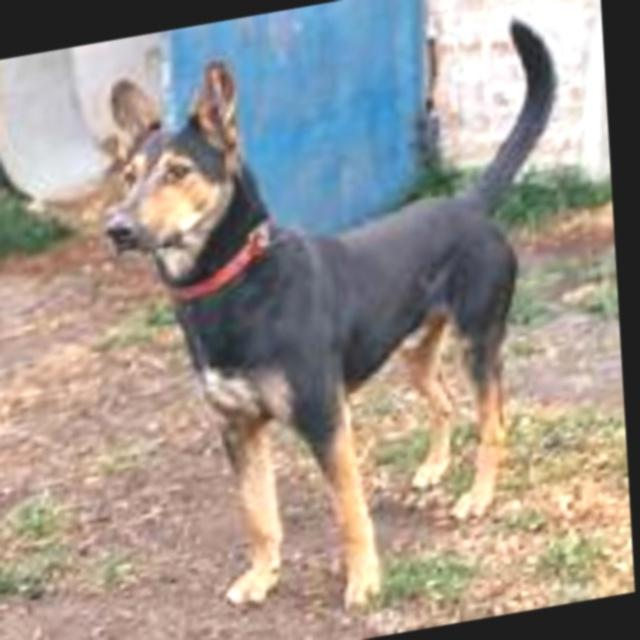dog: (57, 22, 606, 640)
